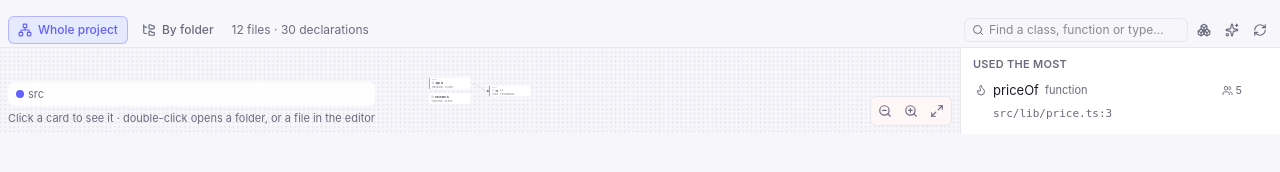
Test: MapView › opens a folder on double-click, in the folder view with its path to climb back
This screenshot has width=1280, height=172.
Double-click the button "src/ lib 2 3 files · 4 declarations" at x=510, y=91, box top-left (489, 85), bottom-right (531, 97)
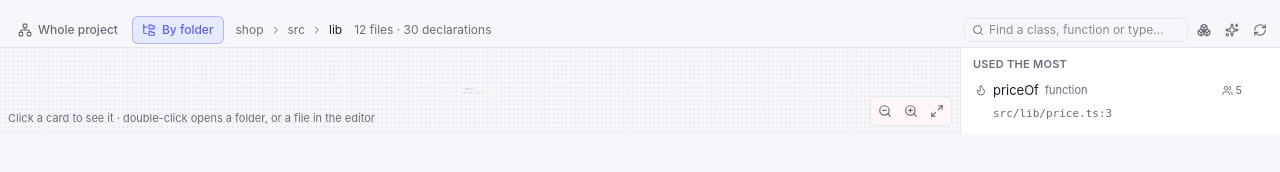
Expected: the button "lib" is shown, top-left (325, 20), bottom-right (346, 38)
Result: the button "shop" is shown at top-left (232, 20), bottom-right (268, 38)
